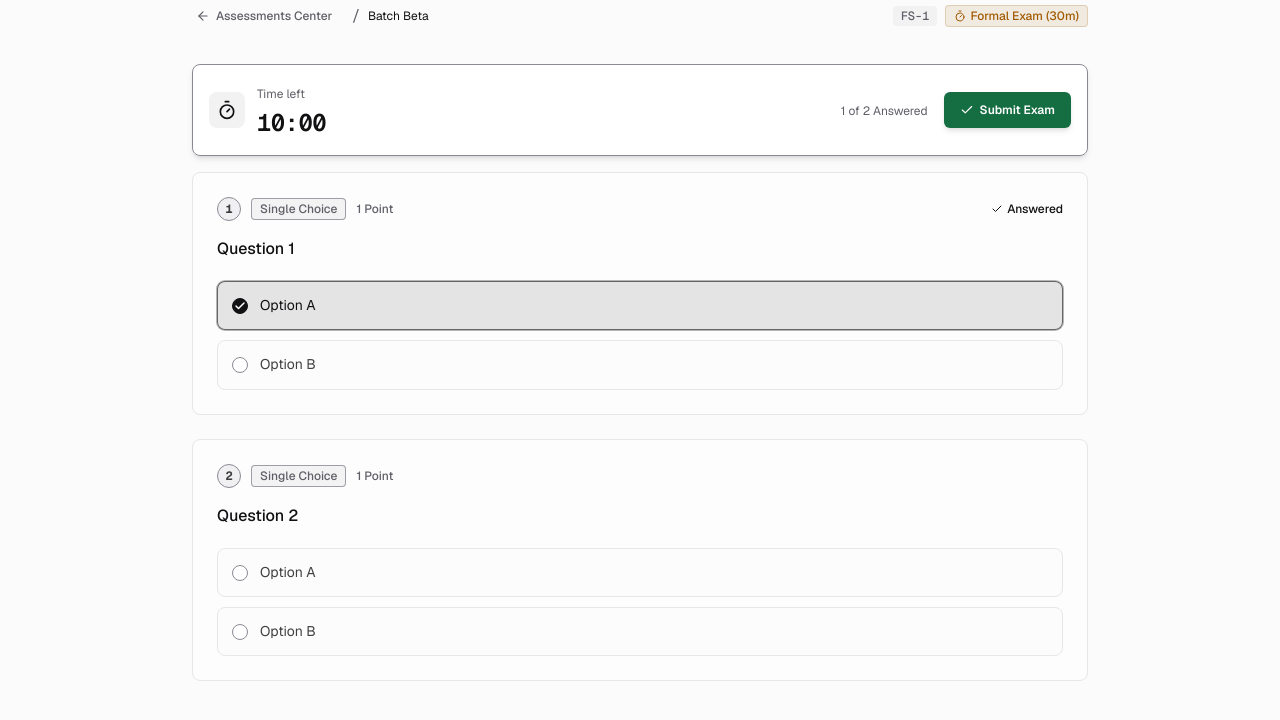
it: Formal assessment: final-submission confirmation › Submit Exam opens an accessible confirmation with the answered count; nothing is submitted
Click the button "Submit Exam" at (1007, 110), box [944, 92, 1071, 128]
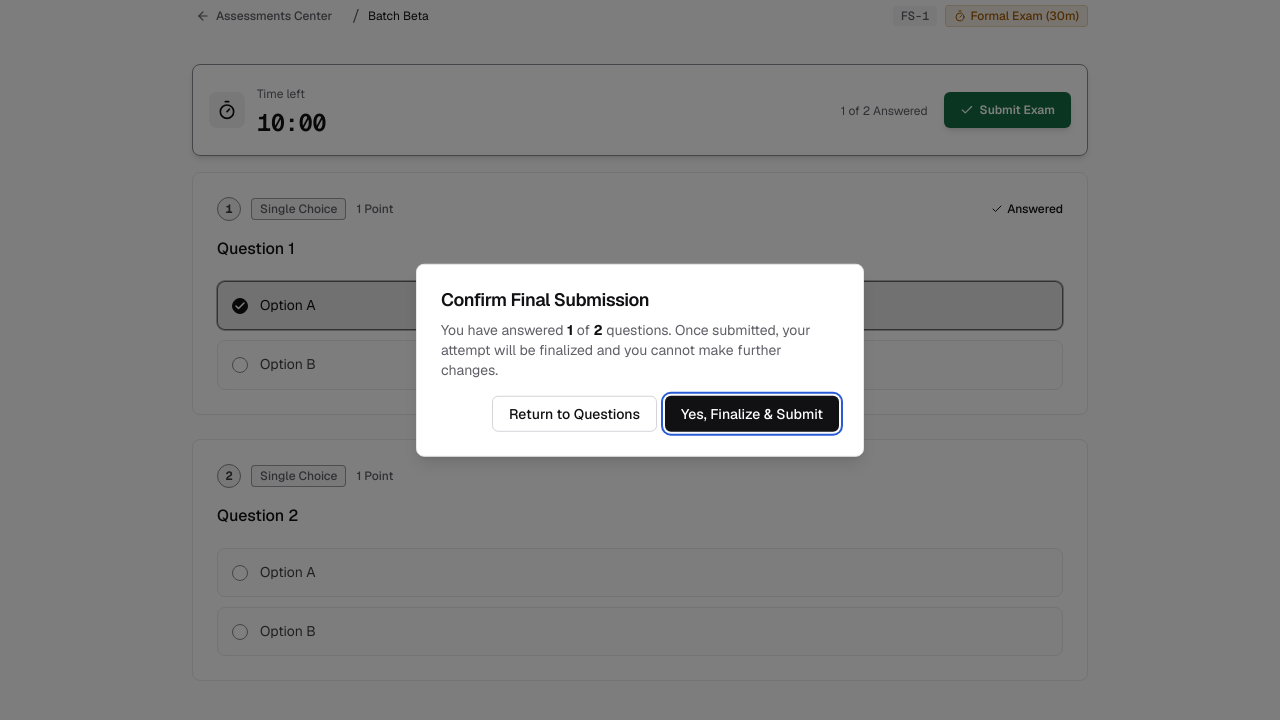
Check: the heading "Confirm Final Submission" is shown, box [441, 288, 649, 311]
Check: the dialog shows "answered 1 of 2 questions", box [416, 264, 864, 456]
